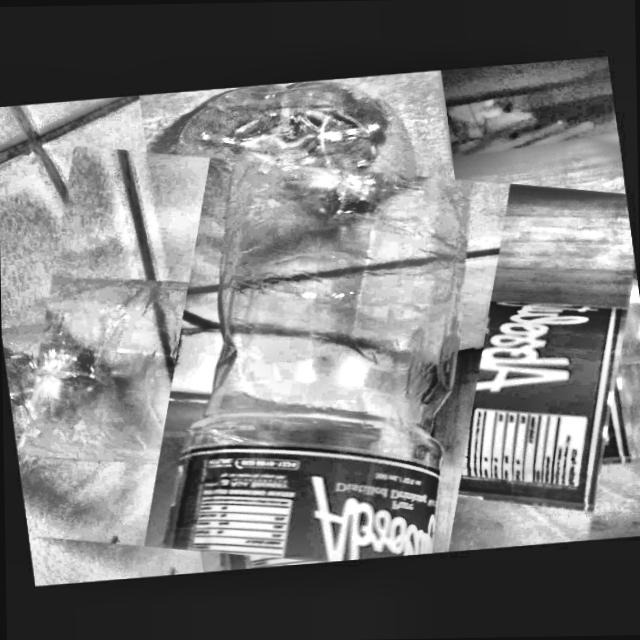Plastic-Bottle: (0, 121, 640, 585)
